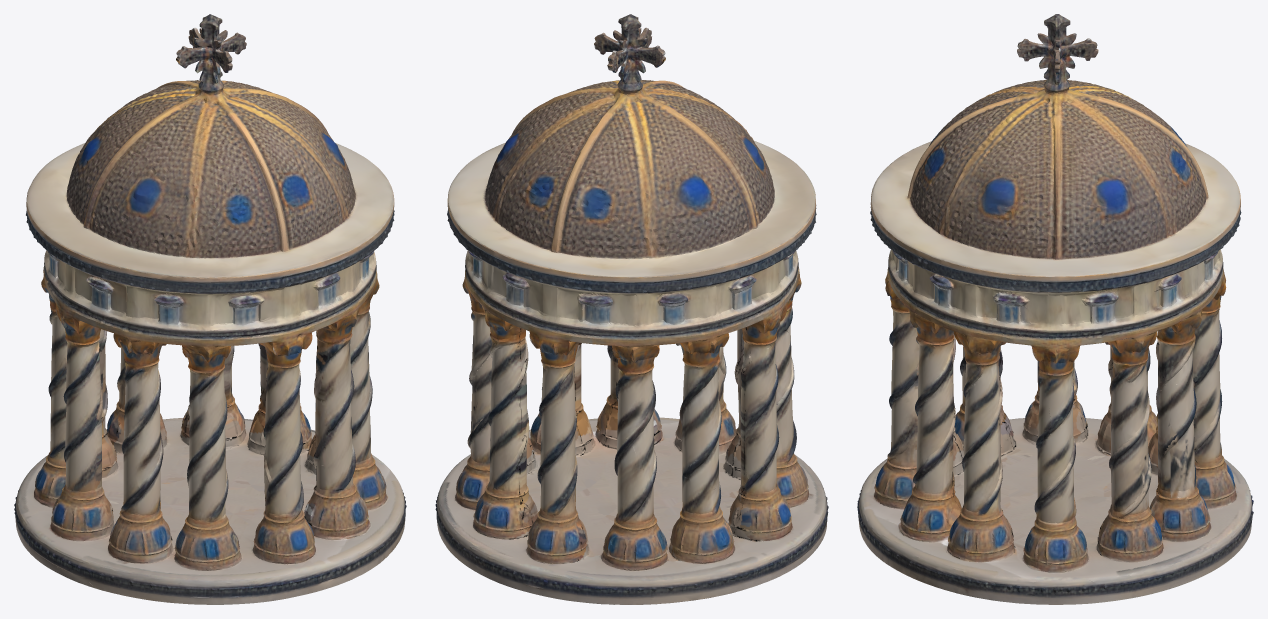
Rendered from rook_white.glb.
3 views of the same model, side by side, from view 1: azimuth 30°, elevation 25°; view 2: azimuth 150°, elevation 25°; view 3: azimuth 270°, elevation 25° (orthographic).
Parts seen in each view (by area): view 1: model; view 2: model; view 3: model.
Boxes of the visible parts, x1,y1,x2,y2 form: model: (14,14,406,604); model: (435,14,828,604); model: (857,14,1253,604).
Bounding box in the file's own units: 1.33 × 1.9 × 1.33.
Materials: 1 (1 with a texture image).
